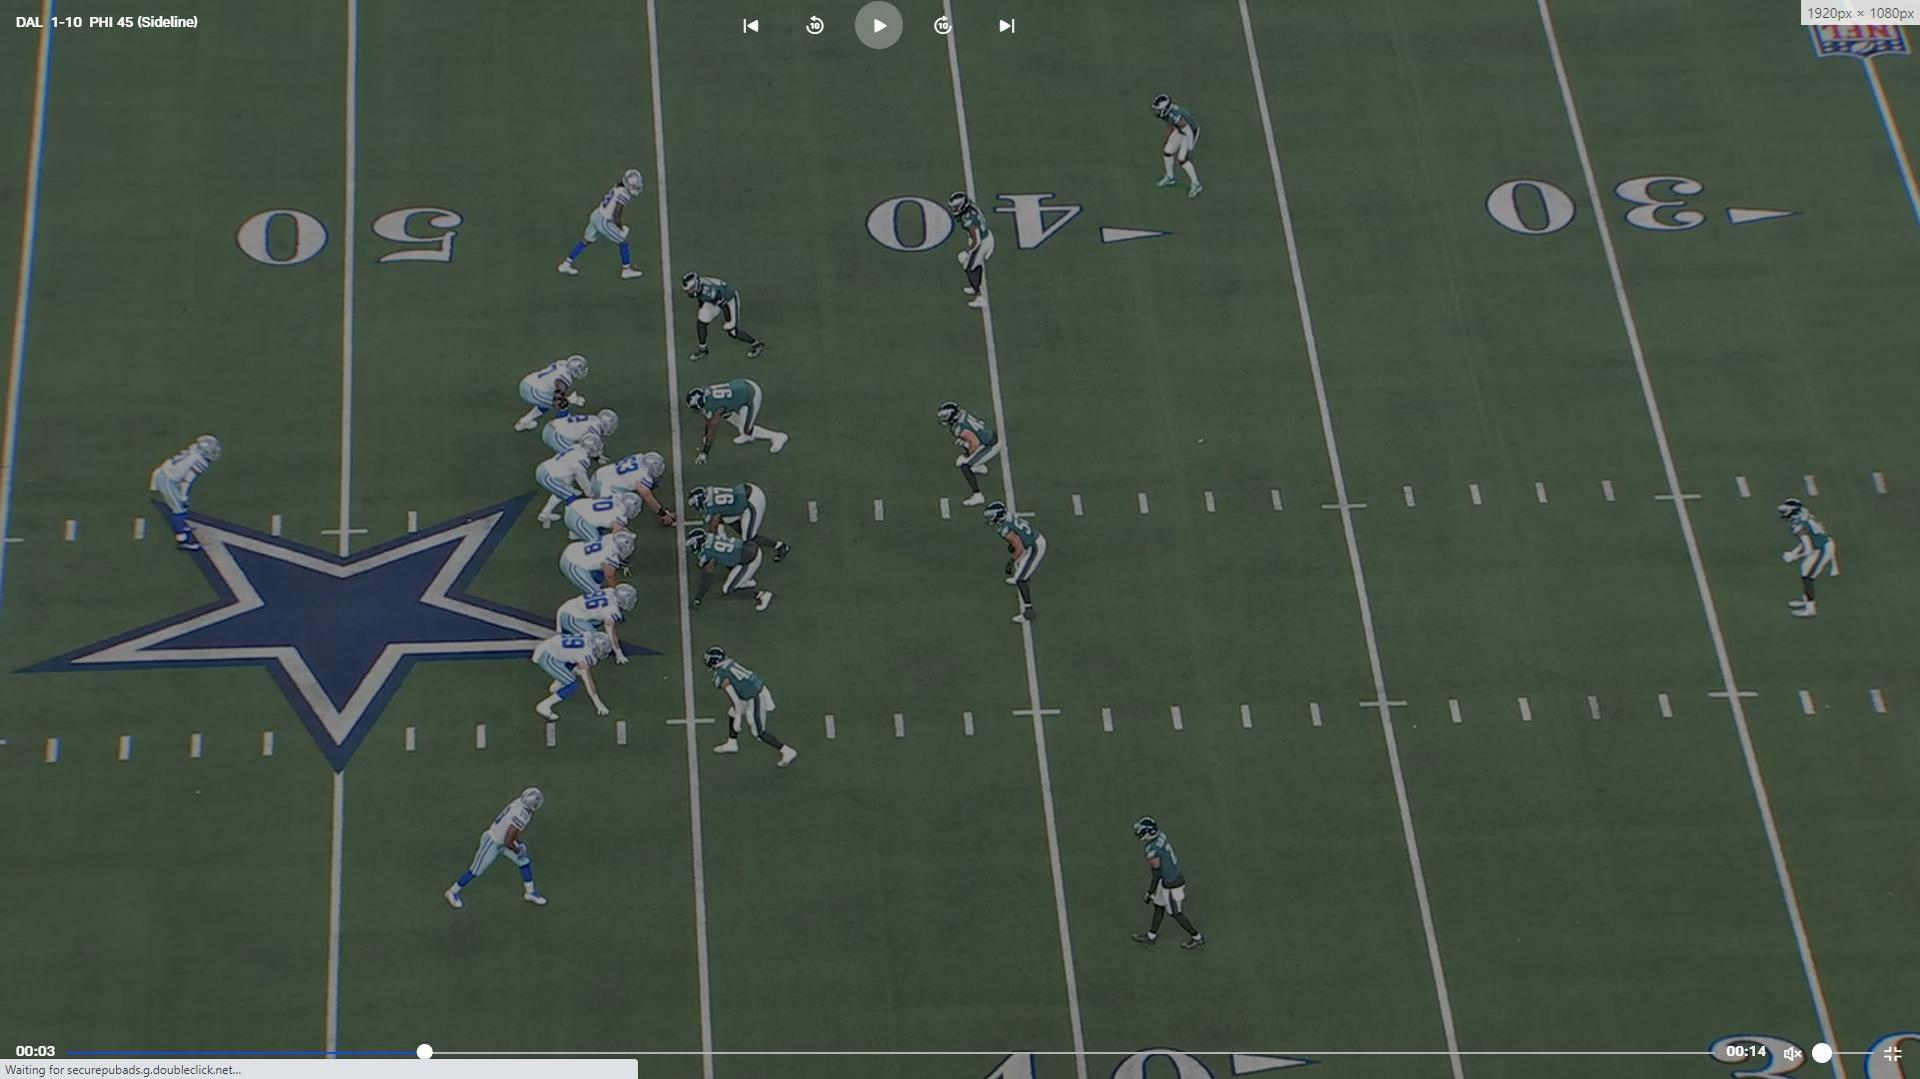player: (438, 784, 552, 918), (696, 646, 796, 772), (1130, 815, 1212, 956), (554, 169, 650, 287), (146, 430, 228, 553), (1771, 494, 1847, 626), (685, 378, 795, 463), (526, 618, 613, 724), (681, 266, 773, 361), (683, 527, 781, 615), (988, 499, 1054, 627), (693, 484, 794, 562), (542, 432, 615, 537), (514, 349, 598, 438), (558, 581, 645, 666), (1149, 87, 1210, 203), (938, 397, 1001, 505), (589, 451, 675, 530), (948, 187, 1000, 313), (560, 492, 639, 563), (539, 406, 622, 469), (565, 534, 643, 600)
